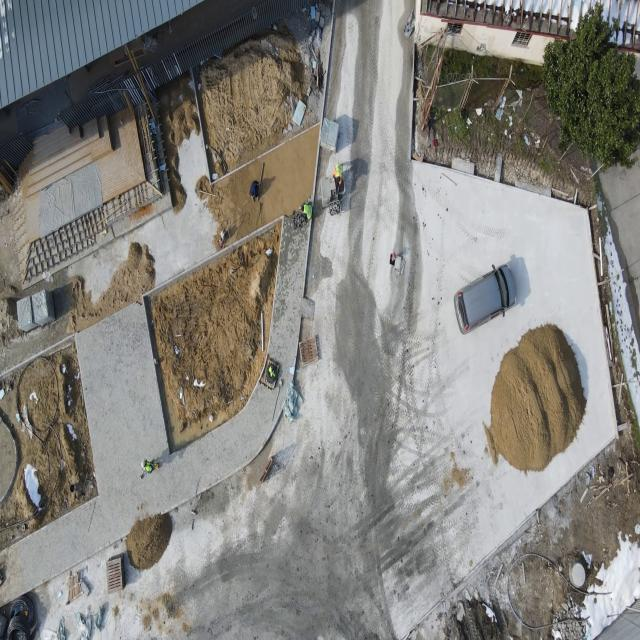p3rson: (332, 161, 342, 191), (298, 200, 312, 220), (249, 179, 261, 202), (140, 457, 154, 473)
